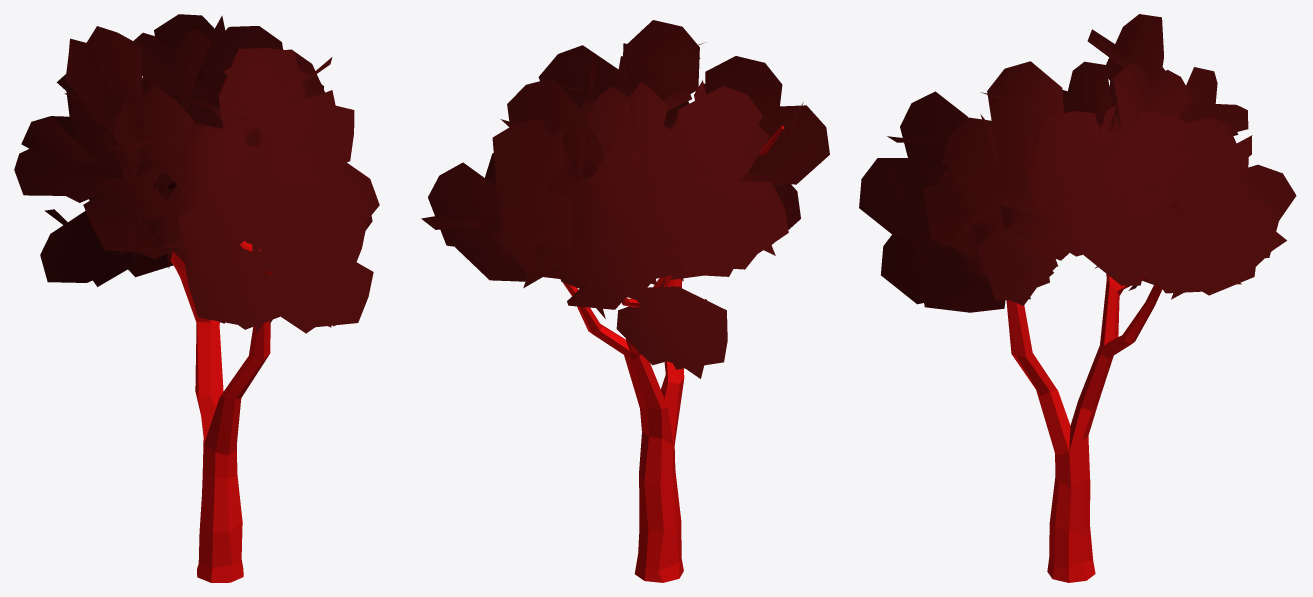
Rendered from SM_Tree_Generic_01.gltf.
3 views of the same model, side by side, from view 1: azimuth 30°, elevation 25°; view 2: azimuth 150°, elevation 25°; view 3: azimuth 270°, elevation 25° (orthographic). The views are drawn at different scales.
Visible parts, largest first — view 1: SM_Tree_Generic_01; view 2: SM_Tree_Generic_01; view 3: SM_Tree_Generic_01.
Boxes of the visible parts, left/top/right/bottom form: SM_Tree_Generic_01: left=14, top=14, right=379, bottom=582; SM_Tree_Generic_01: left=421, top=20, right=829, bottom=582; SM_Tree_Generic_01: left=859, top=14, right=1296, bottom=582.
Bounding box in the file's own units: 3.43 × 5.6 × 4.23.
